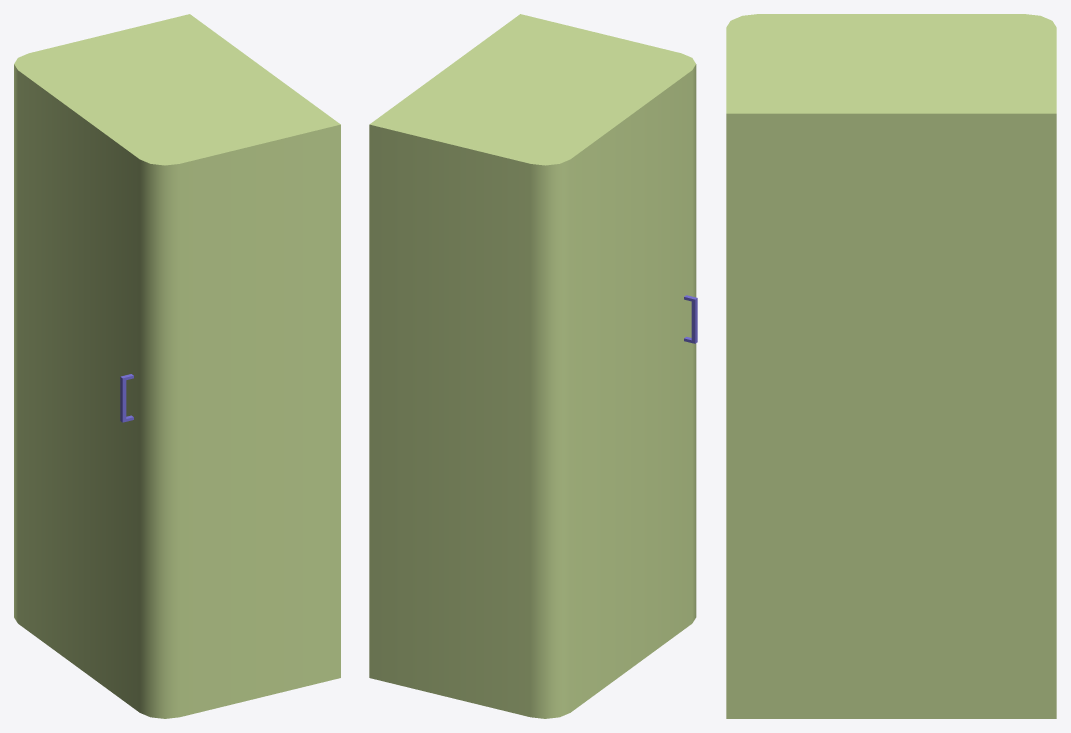
The model's file is Fridge.fbx.
3 views of the same model, side by side, from view 1: azimuth 30°, elevation 25°; view 2: azimuth 150°, elevation 25°; view 3: azimuth 270°, elevation 25° (orthographic). The views are drawn at different scales.
Parts seen in each view (by area): view 1: Koelkast.001; view 2: Koelkast.001; view 3: Koelkast.001.
Boxes of the visible parts, x1=… form: Koelkast.001: x1=14, y1=14, x2=340, y2=718; Koelkast.001: x1=369, y1=14, x2=697, y2=718; Koelkast.001: x1=726, y1=14, x2=1056, y2=718.
Bounding box in the file's own units: 0.7073 × 1.89 × 0.9354.
